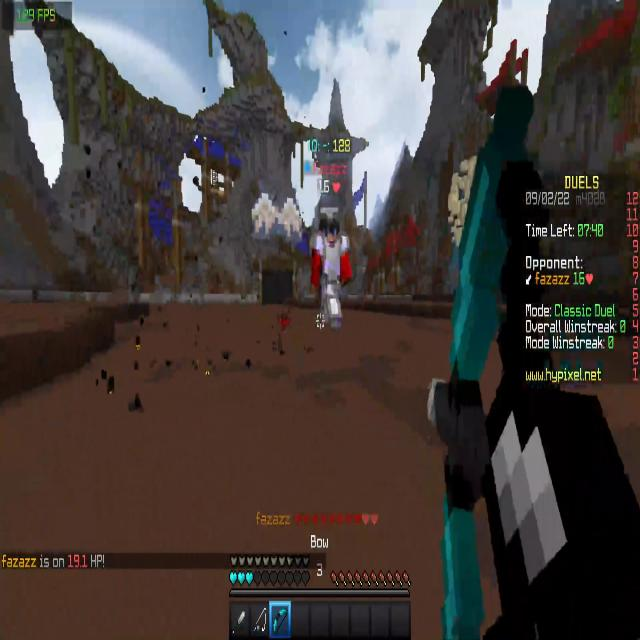Player: (306, 198, 357, 337)
